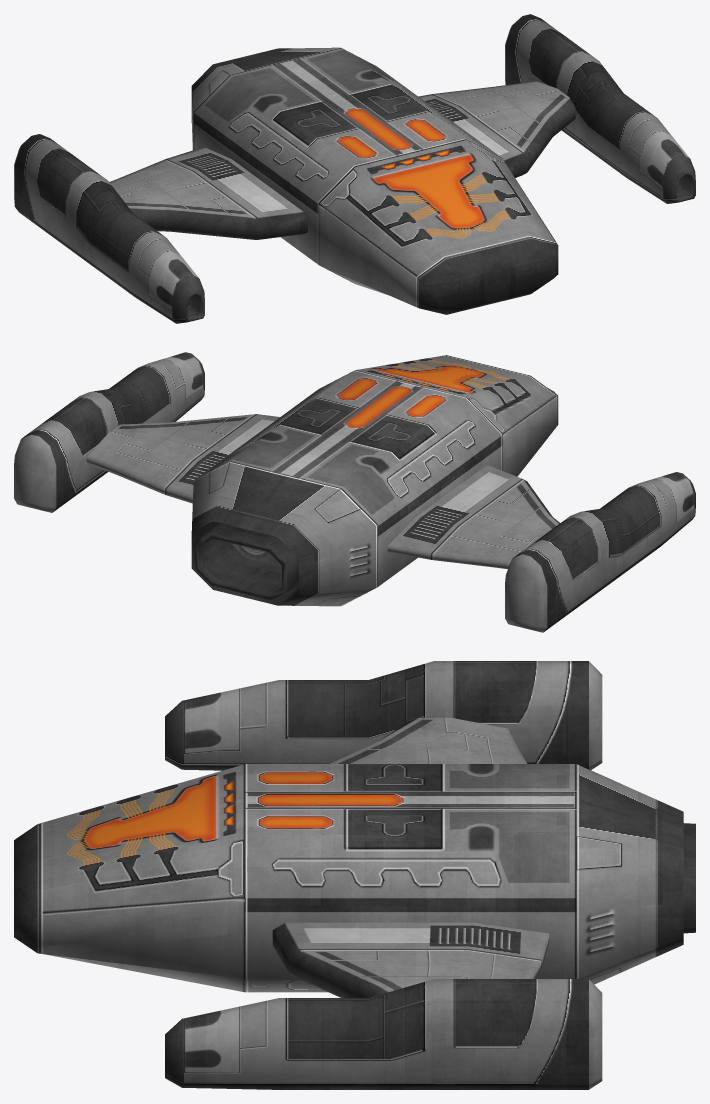
File: droid-fighter.fbx
3 views of the same model, one above another, from view 1: azimuth 30°, elevation 25°; view 2: azimuth 150°, elevation 25°; view 3: azimuth 270°, elevation 25° (orthographic). The views are drawn at different scales.
Visible parts, largest first — view 1: Cube.001; view 2: Cube.001; view 3: Cube.001.
Boxes of the visible parts, x1,y1,x2,y2 form: Cube.001: (14,14,695,323); Cube.001: (14,352,695,632); Cube.001: (14,661,695,1089).
Size of the model in its own units: 513 by 429 by 108.
1 material, 1 textured.
